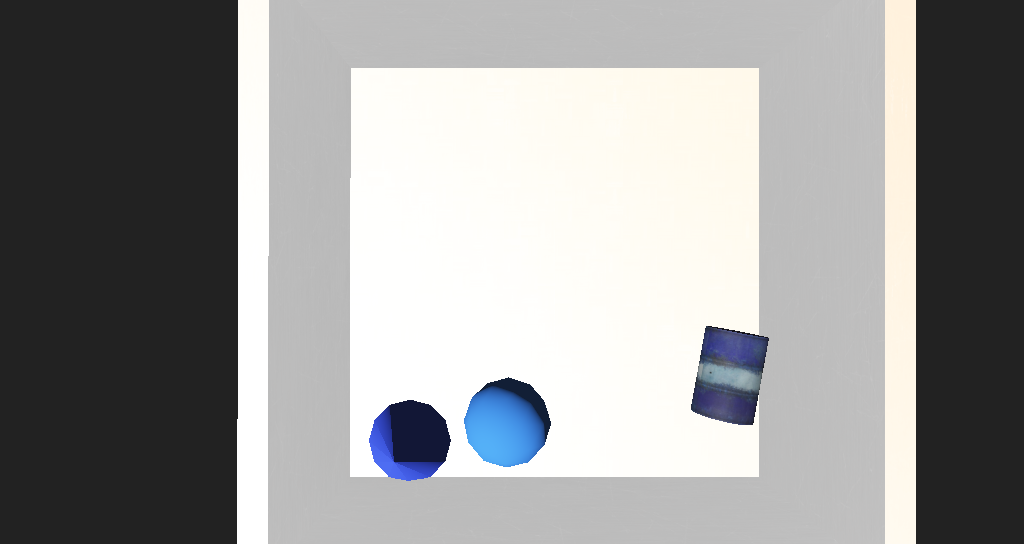cone: (600, 298, 667, 351)
cylinder: (357, 336, 424, 389)
sphere: (441, 320, 502, 367)
